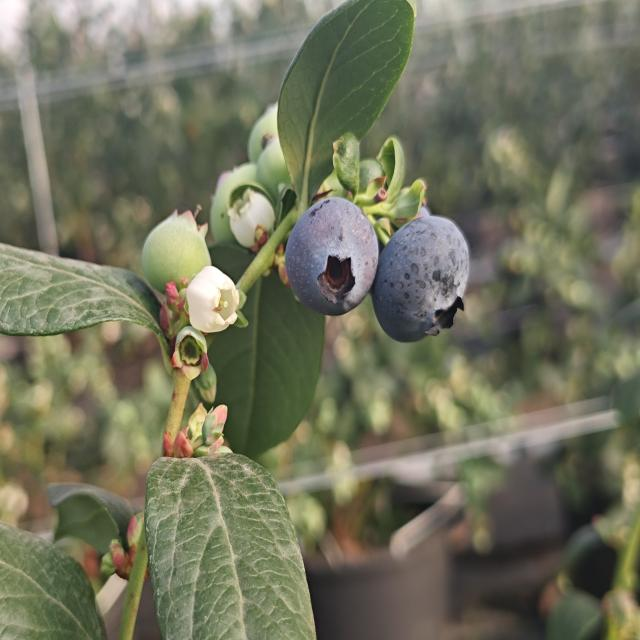ripe: (383, 207, 475, 364), (284, 196, 386, 329)
